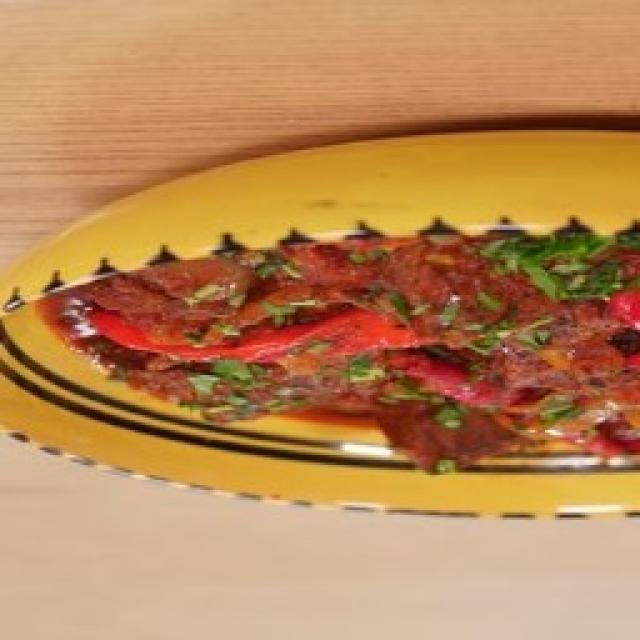Kamouniya: (38, 229, 640, 474)
